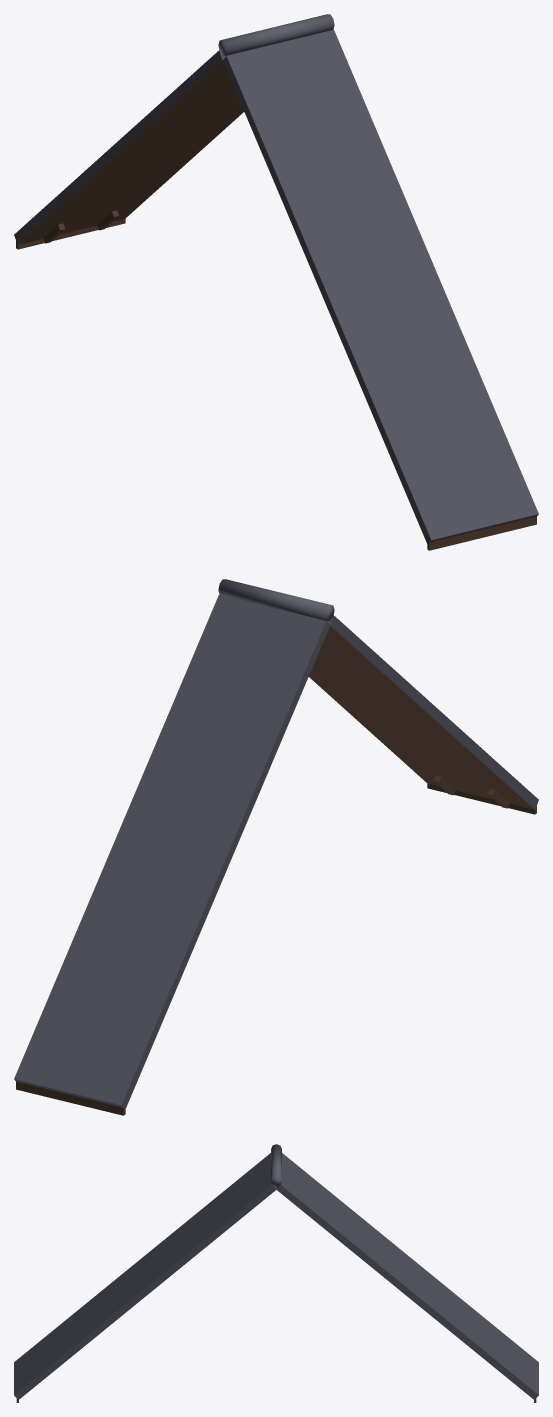
File: kit_timber_slate_w6.glb
The picture shows the model from 3 angles, top to bottom: view 1: azimuth 30°, elevation 25°; view 2: azimuth 150°, elevation 25°; view 3: azimuth 270°, elevation 25°; orthographic projection. The views are drawn at different scales.
Visible parts, largest first — view 1: kit_timber_slate_w6; view 2: kit_timber_slate_w6; view 3: kit_timber_slate_w6.
Part boxes in pixels (<box>): kit_timber_slate_w6: <box>14,14,538,550</box>; kit_timber_slate_w6: <box>14,579,538,1115</box>; kit_timber_slate_w6: <box>14,1144,538,1402</box>.
Size of the model in its own units: 1 by 3.19 by 6.72.
